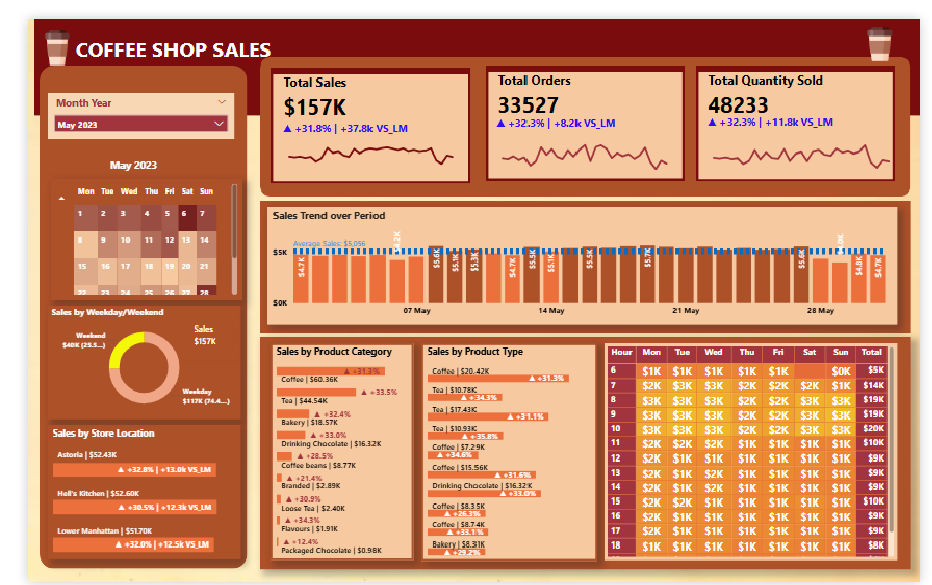

The page's visual inventory and layout, read from the dashboard file:
{"tool":"powerbi","page":{"name":"Page 1","canvas":[1400,850],"ordinal":0},"visuals":[{"type":"shape","box":[9.8,0,1390.2,144.4],"z":0},{"type":"shape","box":[18.8,68.3,326,761.2],"z":1000},{"type":"shape","box":[365.3,56.3,1020.7,209.9],"z":2000},{"type":"textbox","box":[70,17,327.3,71.9],"z":3000},{"type":"cardVisual","fields":{"Data":["Transactions.Total Orders"]},"box":[713.4,63.5,322.9,185.5],"z":4000,"group":"g1"},{"type":"cardVisual","fields":{"Data":["Transactions.Total Quantity Sold"]},"box":[1042.9,63.7,322.6,186],"z":4000,"group":"g3"},{"type":"cardVisual","fields":{"Data":["Transactions.Total Sales"]},"box":[377.2,66.9,324.3,186],"z":4000,"group":"g2"},{"type":"slicer","fields":{"Values":["Date Table.Month Year"]},"box":[32,110,292,70],"z":4000},{"type":"group","id":"g1","title":"Group 2","box":[713.4,63.5,324.3,186],"z":5000},{"type":"group","id":"g2","title":"Group 1","box":[377.2,66.9,324.3,186],"z":6000},{"type":"lineChart","fields":{"Category":["Date Table.Date Hierarchy.Date"],"Y":["Transactions.Total Quantity Sold"]},"box":[1060.6,143.7,303.7,90.4],"z":6000,"group":"g3"},{"type":"lineChart","fields":{"Category":["Date Table.Date Hierarchy.Date"],"Y":["Transactions.Total Orders"]},"box":[730.7,145.9,287.6,87.4],"z":6000,"group":"g1"},{"type":"lineChart","fields":{"Category":["Date Table.Date Hierarchy.Date"],"Y":["Transactions.Total Sales"]},"box":[395.6,152.8,286.2,83.6],"z":6000,"group":"g2"},{"type":"group","id":"g3","title":"Group 2","box":[1042.9,63.7,322.6,186],"z":7000},{"type":"pivotTable","fields":{"Rows":["Date Table.Week Number"],"Columns":["Date Table.Day Name"],"Values":["Min(Date Table.Day Number)"]},"box":[35.8,240.7,300.4,182.6],"z":8000},{"type":"cardVisual","fields":{"Data":["Min(Date Table.Month Year)"]},"box":[100.7,182.6,133.1,56.3],"z":9000},{"type":"donutChart","title":"Sales by Weekday/Weekend","fields":{"Category":["Date Table.Weekday/Weekend"],"Y":["Transactions.Total Sales"]},"box":[32.4,431.8,302.1,170.7],"z":10000},{"type":"cardVisual","fields":{"Data":["Transactions.Total Sales"]},"box":[242.4,438.7,90.5,78.5],"z":11000},{"type":"shape","box":[365.3,477.9,1020.7,351.6],"z":12000},{"type":"shape","box":[365.3,273.1,1020.7,199.7],"z":13000},{"type":"clusteredBarChart","title":"Sales by Product Category","fields":{"Y":["Transactions.Total Sales","Transactions.Placeholder"],"Category":["Transactions.product_category"]},"box":[382.3,488.2,223.6,327.7],"z":14000},{"type":"columnChart","title":"Sales Trend over Period","fields":{"Category":["Transactions.transaction_date"],"Y":["Transactions.Total Sales"]},"box":[377.2,281.6,986.5,179.2],"z":15000},{"type":"clusteredBarChart","title":"Sales by Store Location","fields":{"Y":["Transactions.Placeholder","Transactions.Total Sales"],"Category":["Transactions.store_location"]},"box":[32.4,611,302.1,203.1],"z":16000},{"type":"clusteredBarChart","title":"Sales by Product Type","fields":{"Y":["Transactions.Placeholder","Transactions.Total Sales"],"Category":["Transactions.product_type"]},"box":[617.9,488.2,274.8,329.4],"z":17000},{"type":"pivotTable","fields":{"Rows":["Transactions.Hour"],"Columns":["Date Table.Day Name"],"Values":["Transactions.Total Sales"]},"box":[904.6,488.2,459.1,327.7],"z":18000},{"type":"image","box":[10,10,72.5,62.5],"z":18001},{"type":"image","box":[1300,5,72.5,62.5],"z":18002}]}

Visuals, with their boxes in screenshot pixels (x1, y1, x2, y2):
shape: {"left": 33, "top": 32, "right": 913, "bottom": 123}
shape: {"left": 39, "top": 75, "right": 245, "bottom": 557}
shape: {"left": 258, "top": 67, "right": 904, "bottom": 200}
textbox: {"left": 71, "top": 42, "right": 278, "bottom": 88}
cardVisual - Transactions.Total Orders: {"left": 478, "top": 72, "right": 683, "bottom": 189}
cardVisual - Transactions.Total Quantity Sold: {"left": 687, "top": 72, "right": 891, "bottom": 190}
cardVisual - Transactions.Total Sales: {"left": 266, "top": 74, "right": 471, "bottom": 192}
slicer - Date Table.Month Year: {"left": 47, "top": 101, "right": 232, "bottom": 146}
"Group 2" group: {"left": 478, "top": 72, "right": 684, "bottom": 190}
"Group 1" group: {"left": 266, "top": 74, "right": 471, "bottom": 192}
lineChart - Date Table.Date Hierarchy.Date x Transactions.Total Quantity Sold: {"left": 698, "top": 123, "right": 891, "bottom": 180}
lineChart - Date Table.Date Hierarchy.Date x Transactions.Total Orders: {"left": 489, "top": 124, "right": 672, "bottom": 179}
lineChart - Date Table.Date Hierarchy.Date x Transactions.Total Sales: {"left": 277, "top": 128, "right": 458, "bottom": 181}
"Group 2" group: {"left": 687, "top": 72, "right": 891, "bottom": 190}
pivotTable - Date Table.Week Number x Date Table.Day Name: {"left": 49, "top": 184, "right": 240, "bottom": 300}
cardVisual - Min(Date Table.Month Year): {"left": 90, "top": 147, "right": 175, "bottom": 183}
"Sales by Weekday/Weekend" donutChart: {"left": 47, "top": 305, "right": 239, "bottom": 413}
cardVisual - Transactions.Total Sales: {"left": 180, "top": 309, "right": 238, "bottom": 359}
shape: {"left": 258, "top": 334, "right": 904, "bottom": 557}
shape: {"left": 258, "top": 204, "right": 904, "bottom": 331}
"Sales by Product Category" clusteredBarChart: {"left": 269, "top": 341, "right": 410, "bottom": 548}
"Sales Trend over Period" columnChart: {"left": 266, "top": 210, "right": 890, "bottom": 323}
"Sales by Store Location" clusteredBarChart: {"left": 47, "top": 418, "right": 239, "bottom": 547}
"Sales by Product Type" clusteredBarChart: {"left": 418, "top": 341, "right": 592, "bottom": 549}
pivotTable - Transactions.Hour x Date Table.Day Name: {"left": 600, "top": 341, "right": 890, "bottom": 548}
image: {"left": 33, "top": 38, "right": 79, "bottom": 77}
image: {"left": 850, "top": 35, "right": 896, "bottom": 74}
